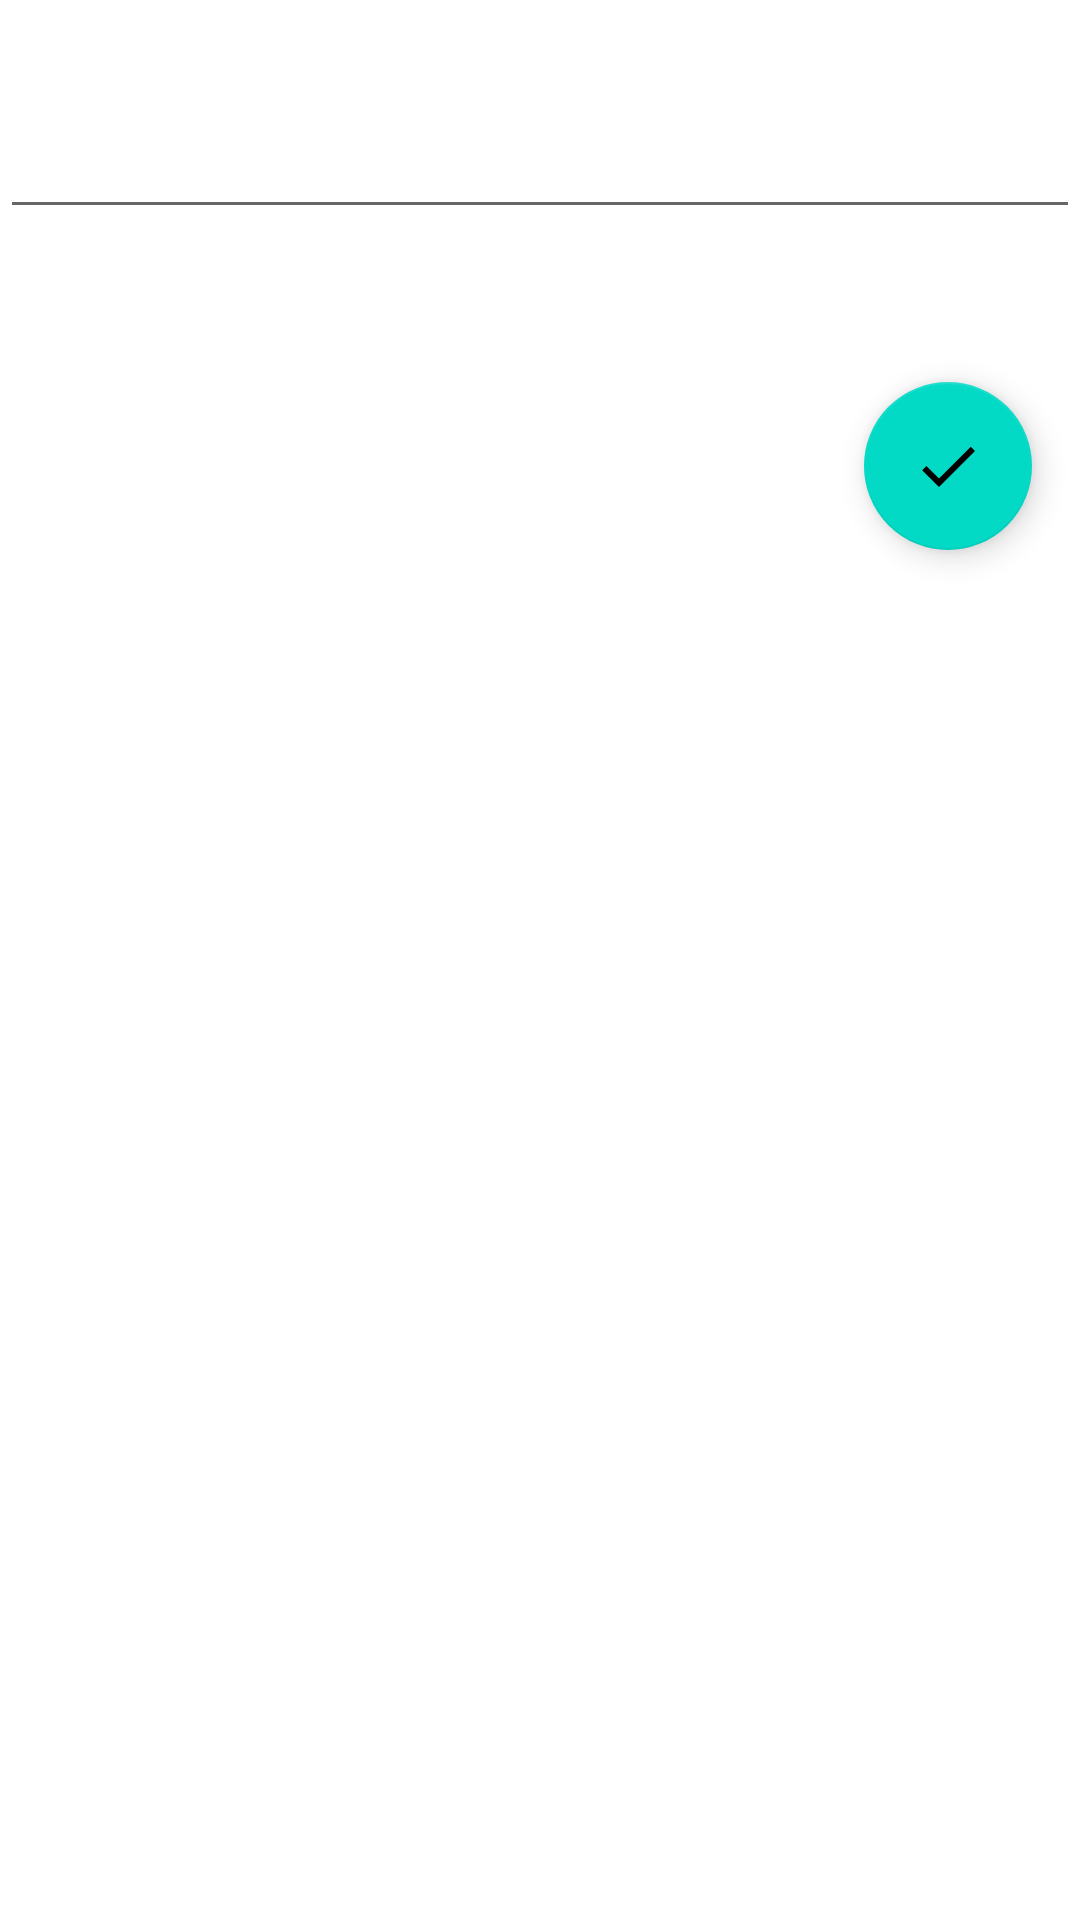

Screen size 1080px x 1920px. Icon name, then its center in pixels as (x,y):
wasread: (948,466)
